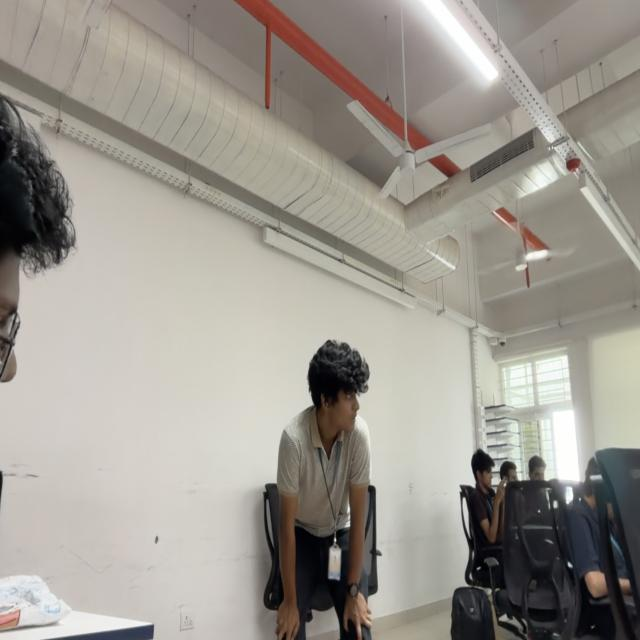kshitij: (307, 339, 370, 439)
